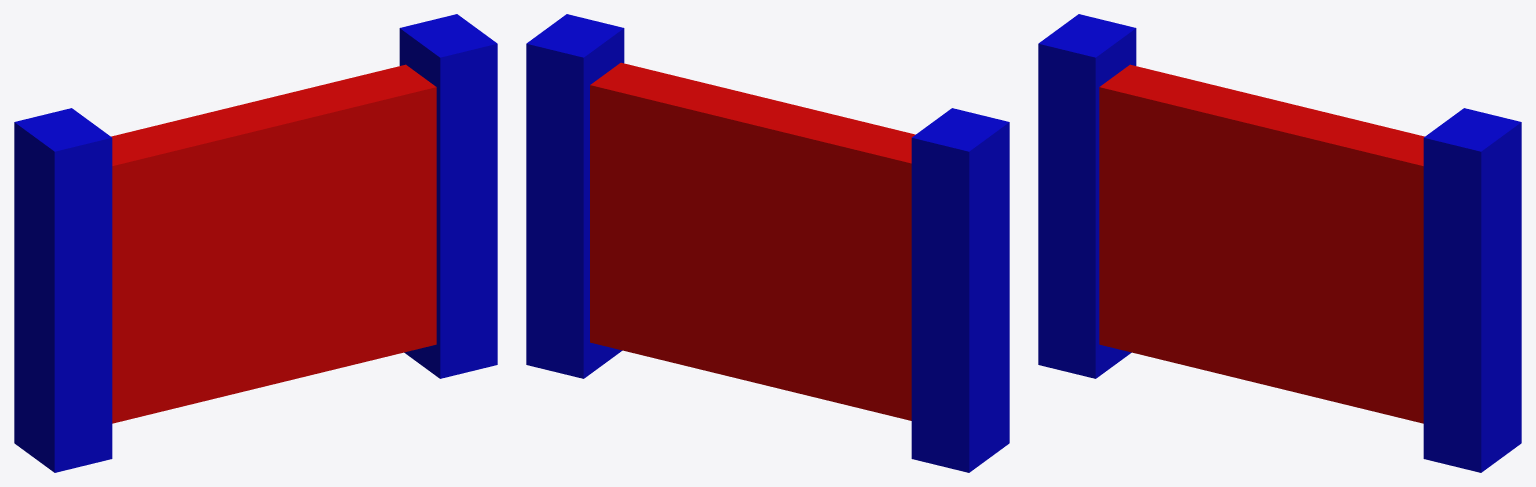
File: SM_Gate.fbx
The picture shows the model from 3 angles, left to right: view 1: azimuth 30°, elevation 25°; view 2: azimuth 150°, elevation 25°; view 3: azimuth 330°, elevation 25°; orthographic projection.
Parts seen in each view (by area): view 1: polySurface4; view 2: polySurface4; view 3: polySurface4.
Part boxes in pixels (left/top/right/bottom): polySurface4: left=14, top=14, right=497, bottom=472; polySurface4: left=526, top=14, right=1009, bottom=472; polySurface4: left=1038, top=14, right=1521, bottom=472.
Bounding box in the file's own units: 498 × 345 × 78.98.
